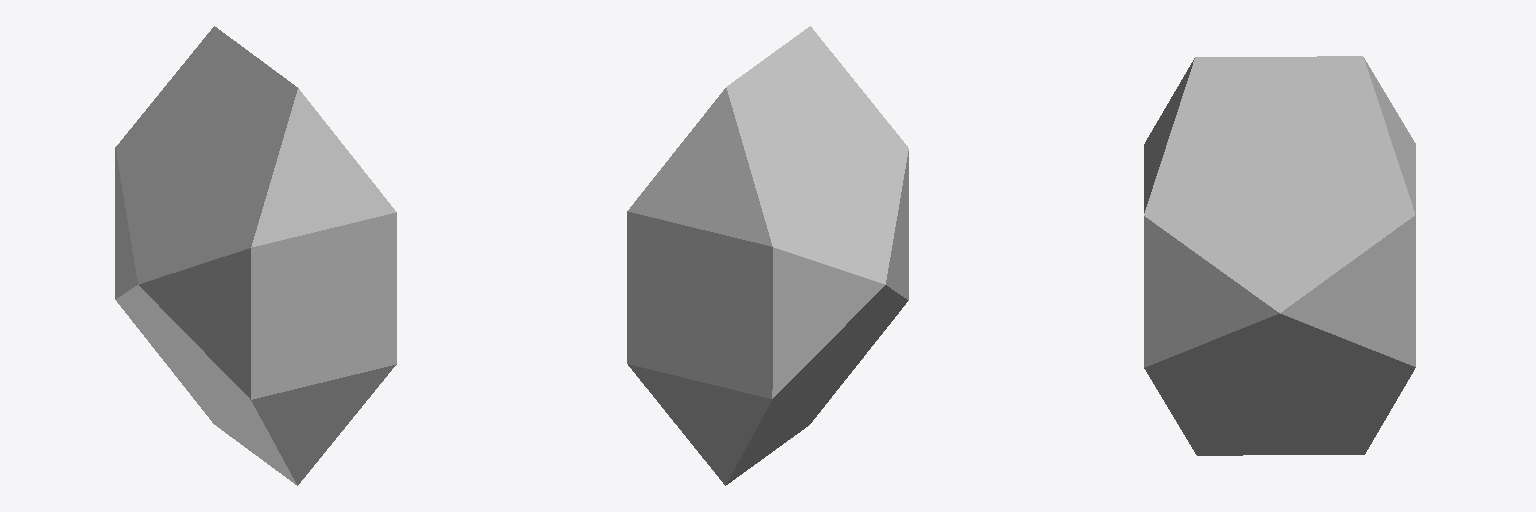
Rendered from BilunaBiRotunda.obj.
3 renders of one model, left to right at view 1: azimuth 30°, elevation 25°; view 2: azimuth 150°, elevation 25°; view 3: azimuth 270°, elevation 25°, orthographic.
Parts seen in each view (by area): view 1: BiLunaBiRotunda; view 2: BiLunaBiRotunda; view 3: BiLunaBiRotunda.
Boxes of the visible parts, <box> form: BiLunaBiRotunda: <box>115,26,396,485</box>; BiLunaBiRotunda: <box>627,26,908,485</box>; BiLunaBiRotunda: <box>1144,56,1415,455</box>.
Bounding box in the file's own units: 1.21 × 1.97 × 1.22.